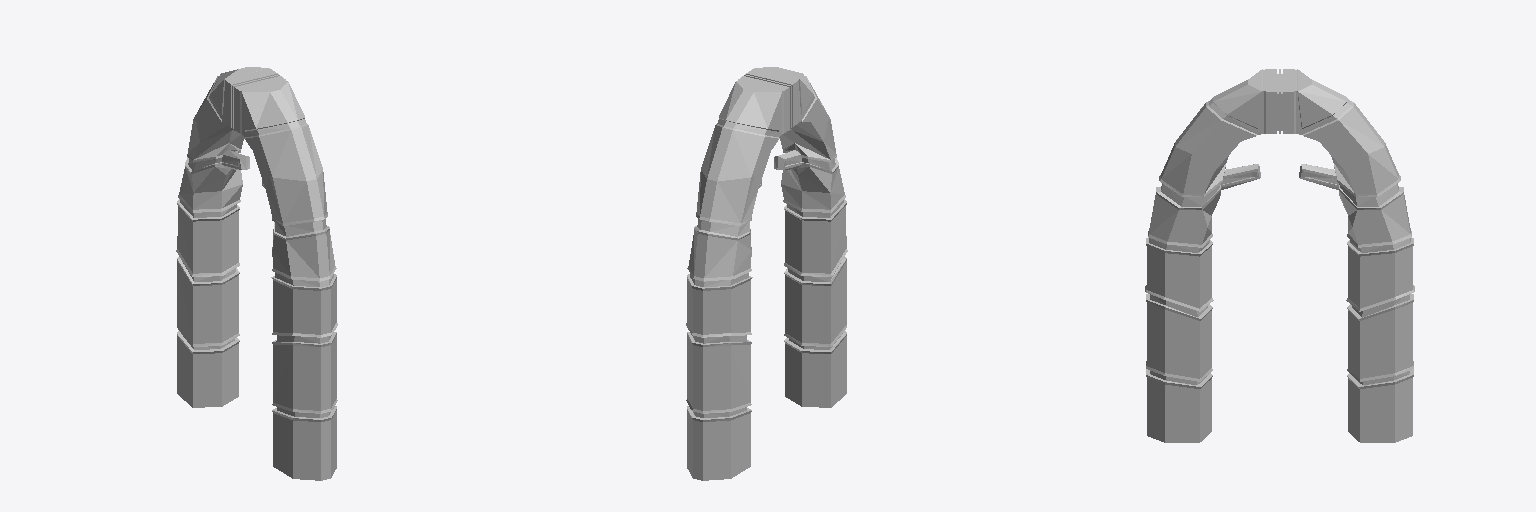
The model's file is archedStoneComplete.obj.
3 renders of one model, left to right at view 1: azimuth 30°, elevation 25°; view 2: azimuth 150°, elevation 25°; view 3: azimuth 270°, elevation 25°, orthographic.
Parts seen in each view (by area): view 1: Cube.001; view 2: Cube.001; view 3: Cube.001.
Part boxes in pixels (left/top/right/bottom): Cube.001: left=176, top=67, right=337, bottom=480; Cube.001: left=686, top=67, right=847, bottom=480; Cube.001: left=1145, top=69, right=1414, bottom=442.
Size of the model in its own units: 2.1 by 14.53 by 10.11.